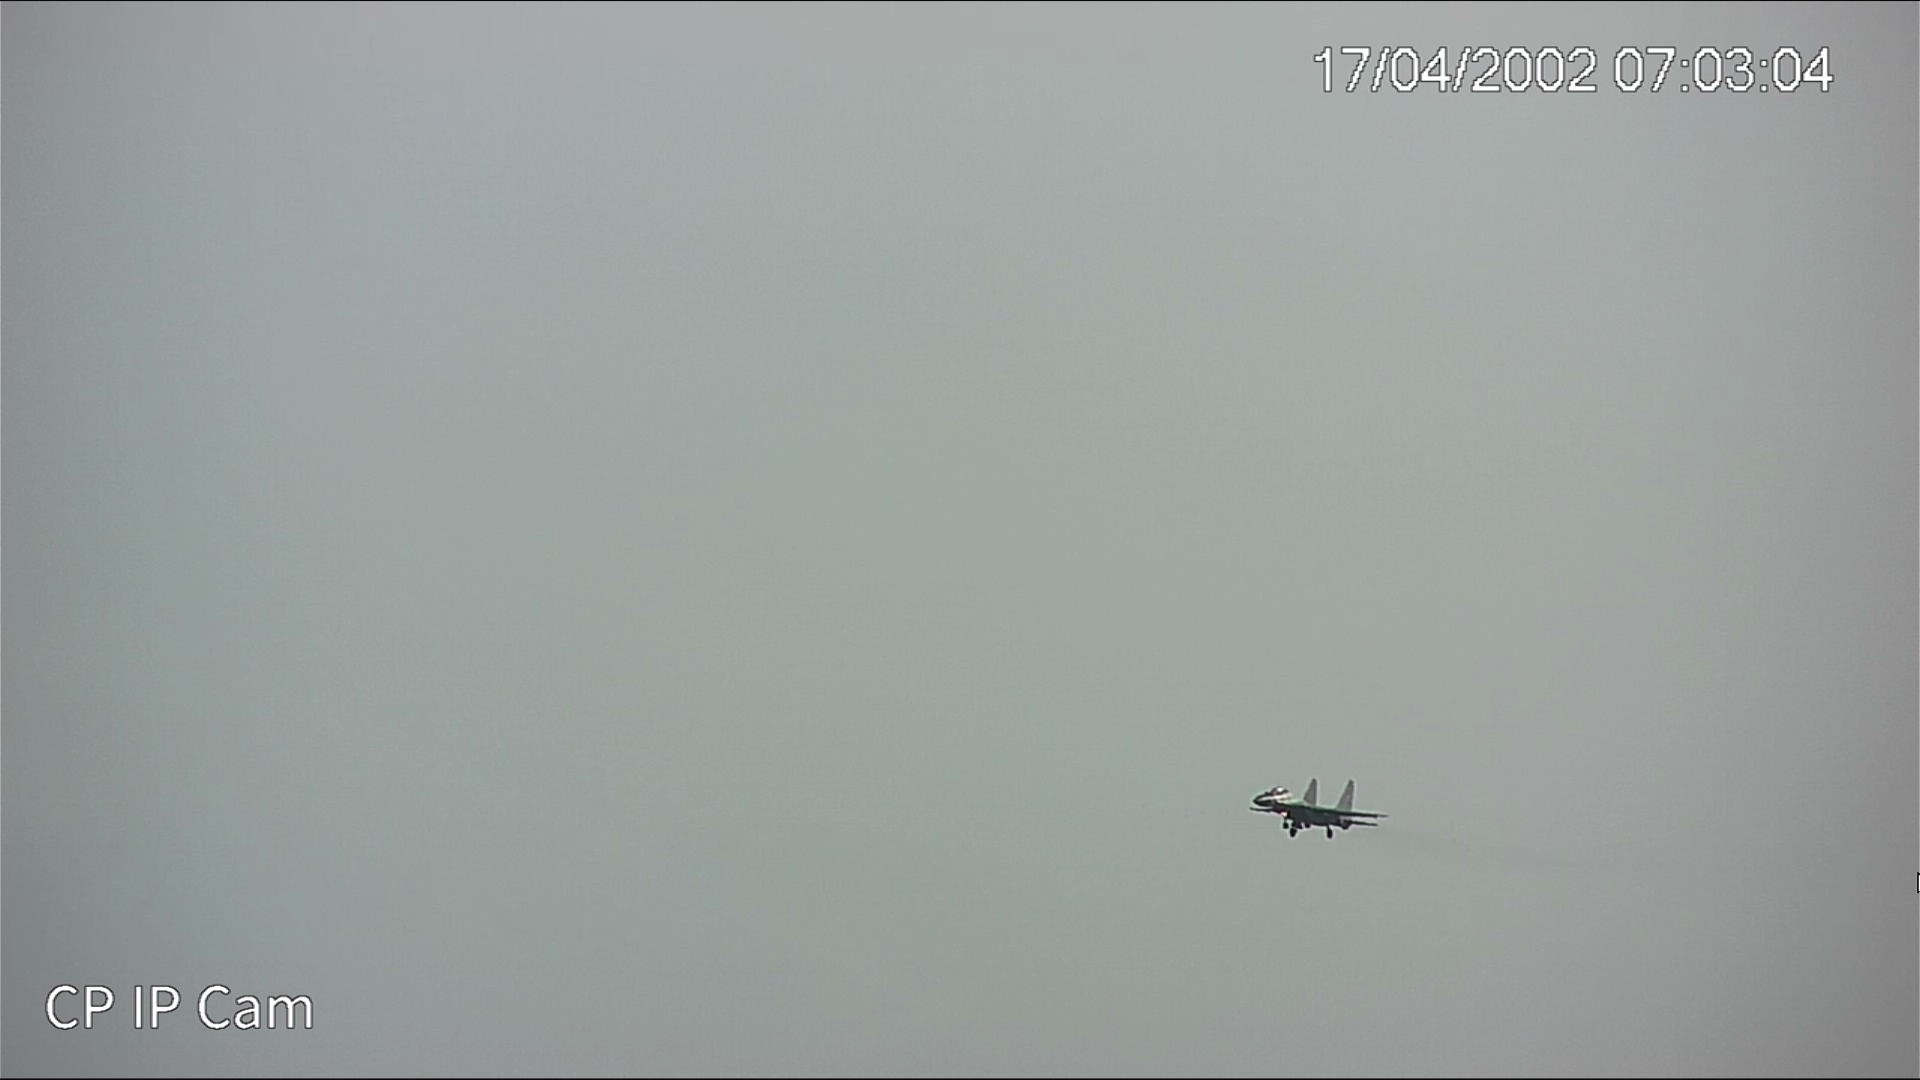SU_30: (1251, 778, 1387, 837)
